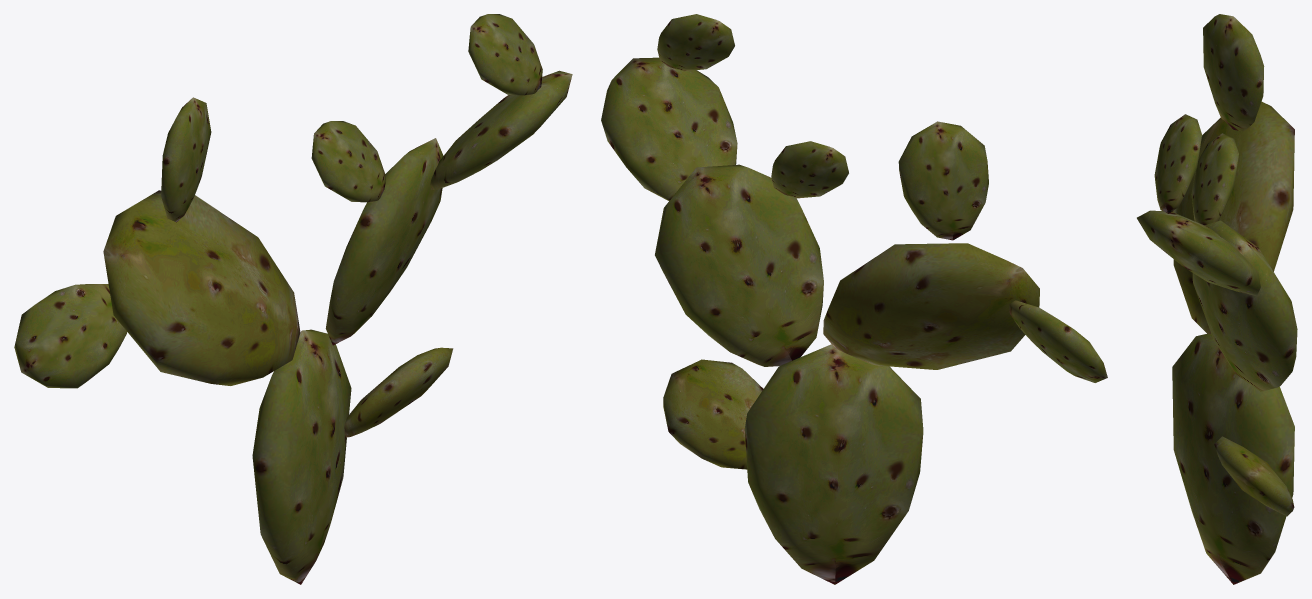
The model's file is kaktusbusch.dae.
3 renders of one model, left to right at view 1: azimuth 30°, elevation 25°; view 2: azimuth 150°, elevation 25°; view 3: azimuth 270°, elevation 25°, orthographic. The views are drawn at different scales.
Visible parts, largest first — view 1: Sphere.002; view 2: Sphere.002; view 3: Sphere.002.
Boxes of the visible parts, bbox=[...] form: Sphere.002: bbox=[14, 14, 572, 584]; Sphere.002: bbox=[601, 14, 1107, 584]; Sphere.002: bbox=[1137, 14, 1297, 584].
Bounding box in the file's own units: 2.2 × 0.5709 × 2.14.
Materials: 1 (1 with a texture image).
